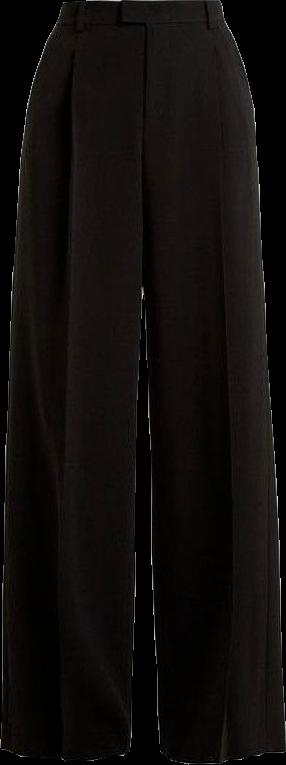Hemline: (0, 739, 127, 762), (161, 745, 285, 764)
Pantleg: (143, 0, 284, 762), (1, 0, 142, 761)
Waistline: (51, 14, 227, 31), (62, 0, 221, 11)
